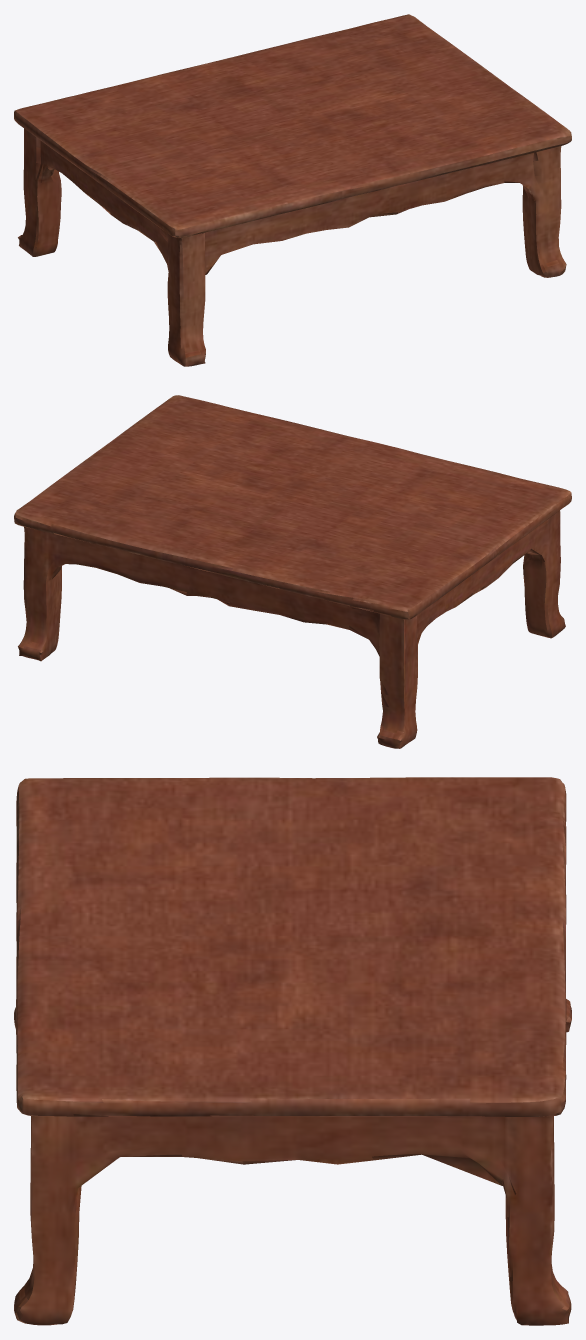
The model's file is w3hredtable.glb.
3 renders of one model, top to bottom at view 1: azimuth 30°, elevation 25°; view 2: azimuth 150°, elevation 25°; view 3: azimuth 270°, elevation 25°, orthographic. The views are drawn at different scales.
Visible parts, largest first — view 1: Mesh0; view 2: Mesh0; view 3: Mesh0.
Boxes of the visible parts, x1,y1,x2,y2 form: Mesh0: (14, 14, 571, 366); Mesh0: (14, 395, 571, 748); Mesh0: (14, 777, 571, 1325).
Size of the model in its own units: 1.15 by 0.3886 by 0.8355.
1 material, 1 textured.
